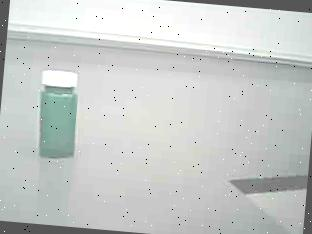Bottle C: (24, 61, 90, 166)
